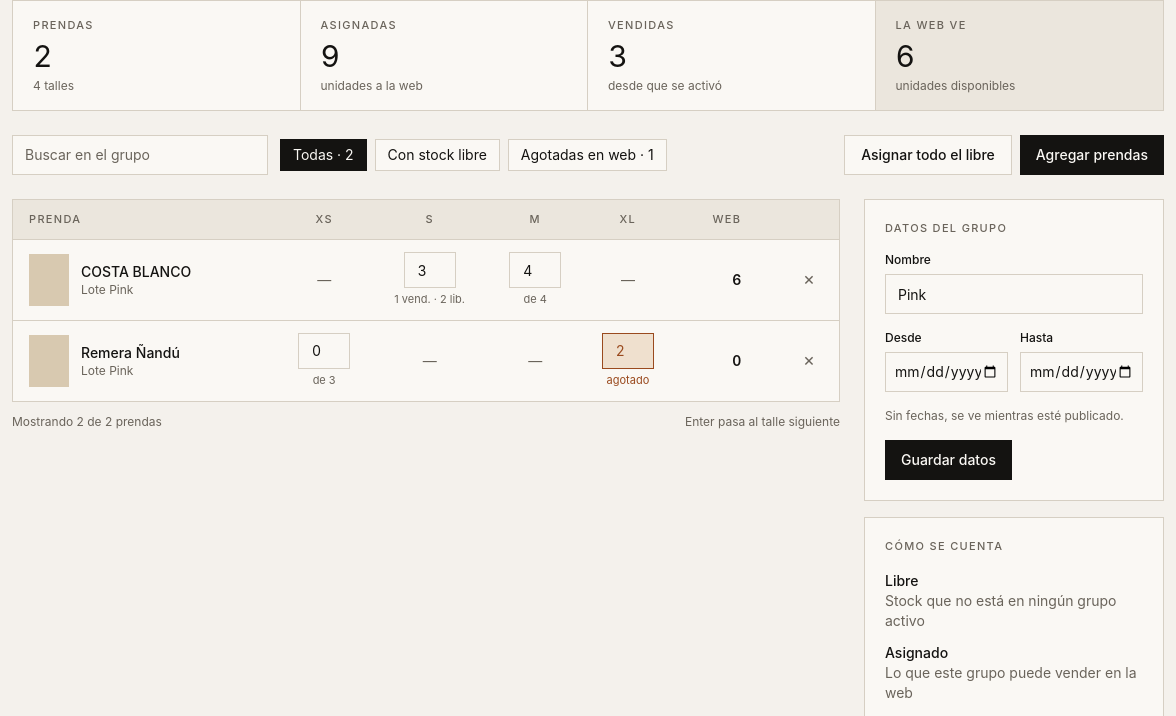
GroupWorkspace › search and filters › filters by free stock and by sold out on the web
expect the button "Todas · 2" is shown: met, box [280,138,367,170]
Click the button "Con stock libre" at [437, 154], box [375,138,500,170]
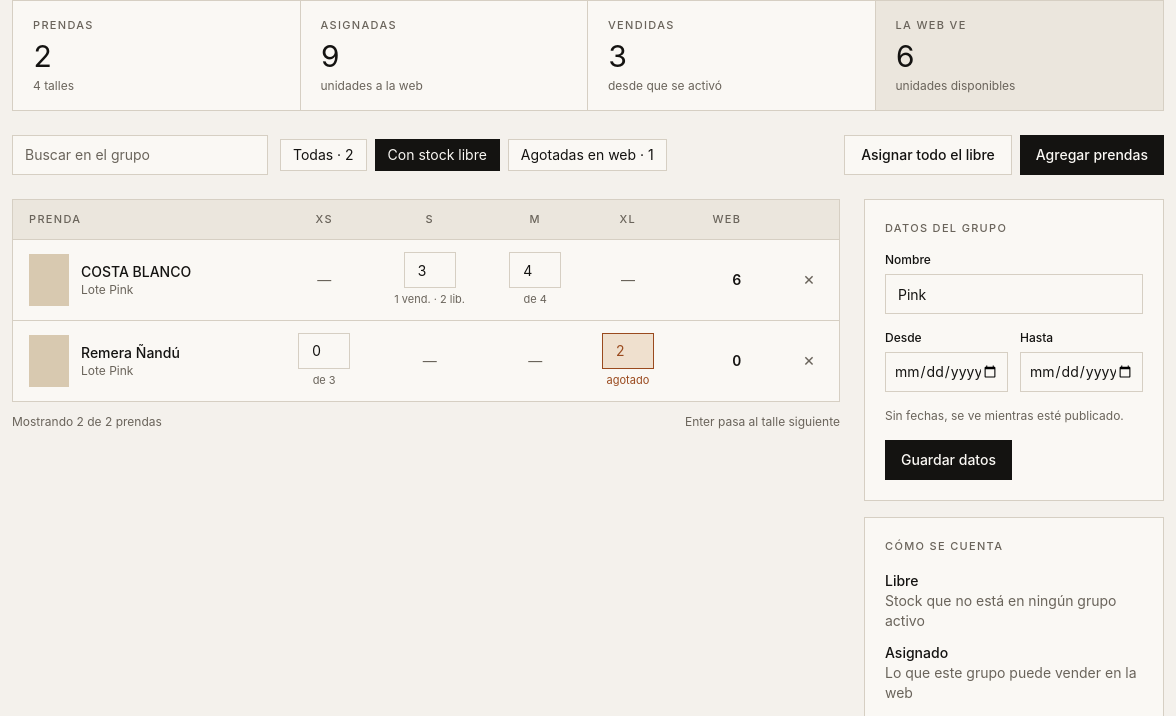
expect the number of rows is 3: met, box [13,200,839,240]; [13,240,839,320]; [13,320,839,401]
The web sees nothing of the Ñandú (nothing assigned to XS, XL sold out).
Click the button "Agotadas en web · 1" at [587, 154], box [508,138,667,170]
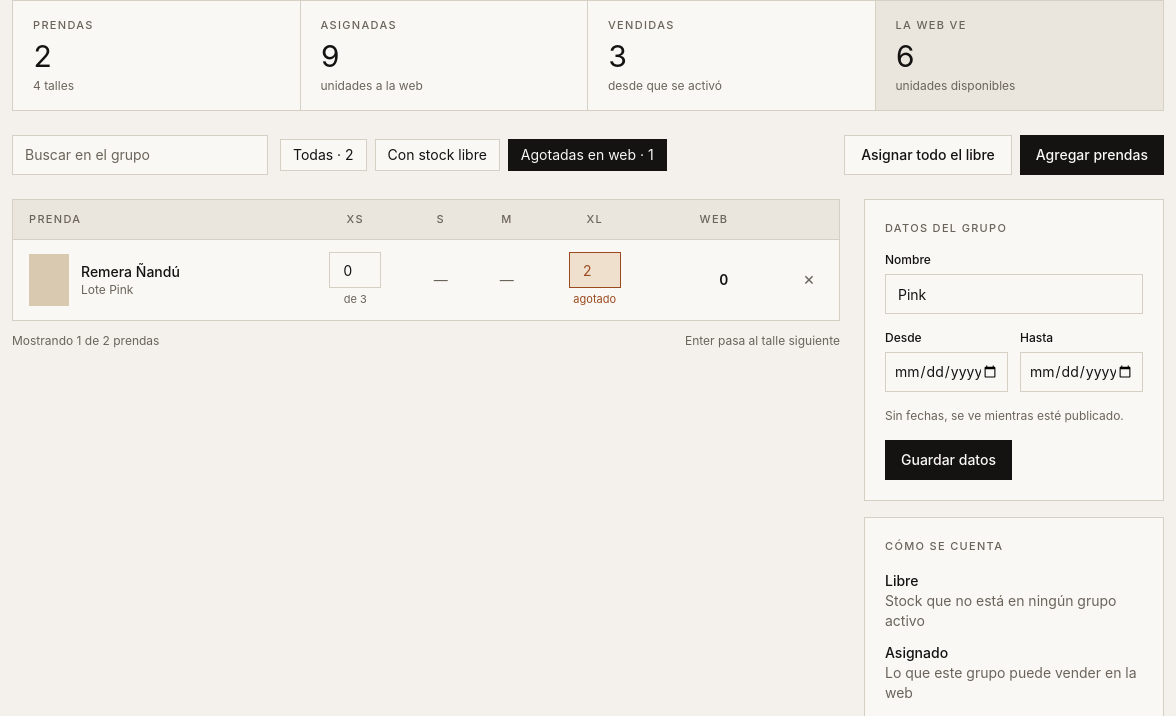
expect the text "Remera Ñandú" is shown: met, box [81,262,180,282]
expect the text "COSTA BLANCO" is gone: met
